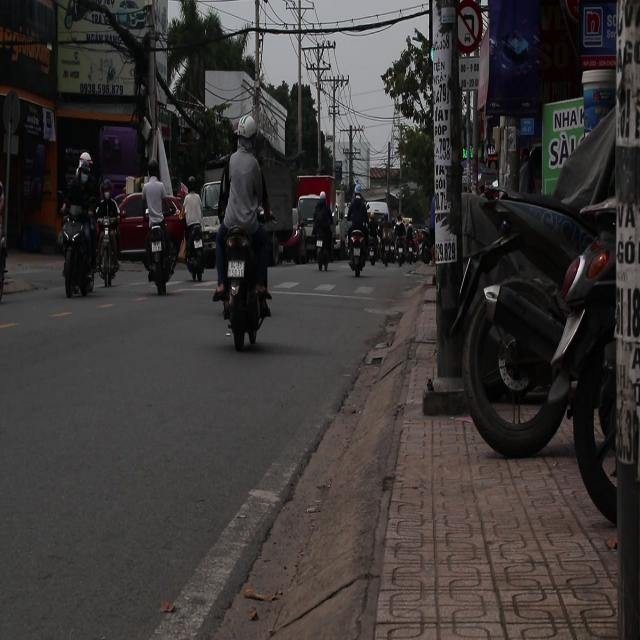car: (105, 188, 185, 273), (194, 159, 234, 288)
motorbike: (214, 222, 272, 352), (51, 174, 99, 308), (138, 210, 176, 316), (97, 199, 131, 305), (186, 211, 210, 308), (314, 200, 336, 285), (183, 221, 210, 282), (349, 220, 373, 278), (387, 224, 410, 282)
truck: (294, 178, 336, 287)
